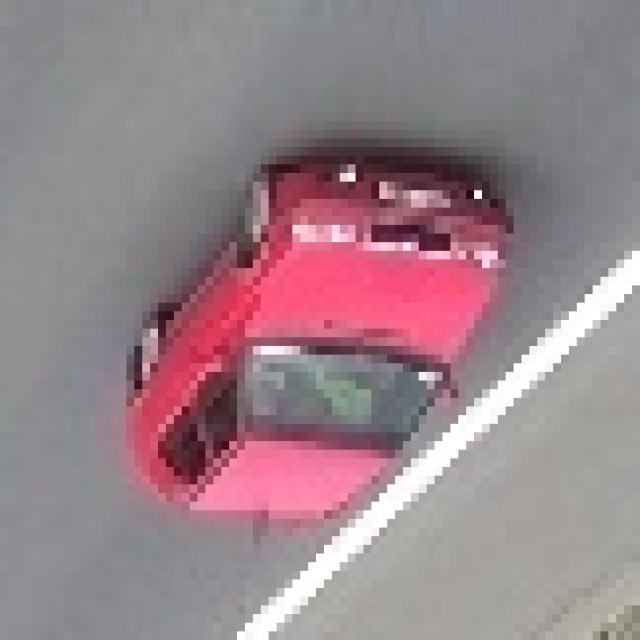red: (130, 159, 513, 515)
